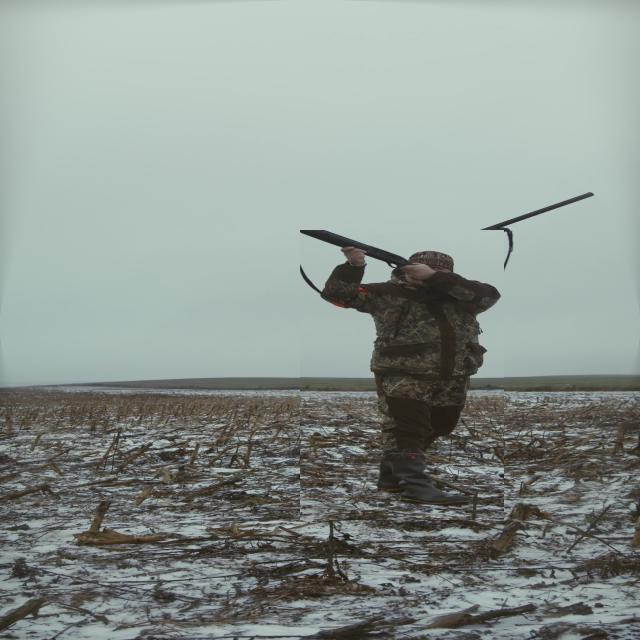poacher: (300, 230, 504, 520)
weapon: (400, 191, 596, 265)
